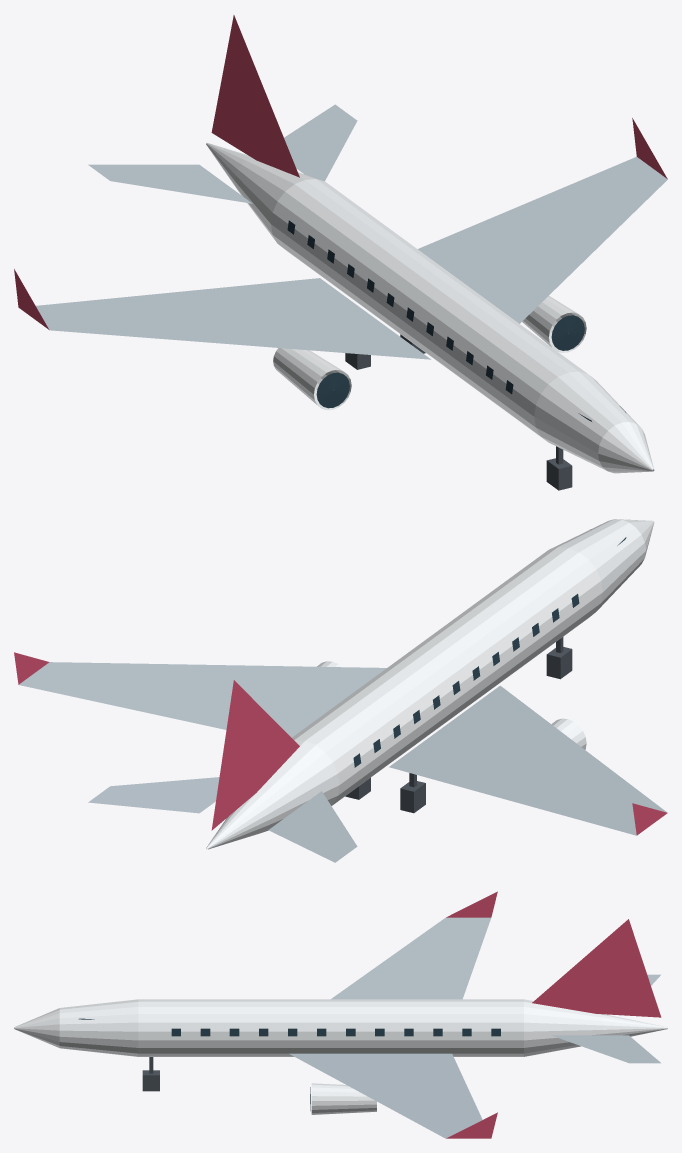
The model's file is a321-THY.gltf.
The picture shows the model from 3 angles, top to bottom: view 1: azimuth 30°, elevation 25°; view 2: azimuth 150°, elevation 25°; view 3: azimuth 270°, elevation 25°; orthographic projection. The views are drawn at different scales.
Visible parts, largest first — view 1: object 1, Gear; view 2: object 1, Gear; view 3: object 1, Gear.
Part boxes in pixels (x1=…): object 1: x1=14, y1=15, x2=667, y2=473; Gear: x1=345, y1=334, x2=572, y2=490; object 1: x1=14, y1=519, x2=667, y2=862; Gear: x1=345, y1=637, x2=572, y2=813; object 1: x1=14, y1=891, x2=667, y2=1138; Gear: x1=142, y1=1057, x2=159, y2=1091.
Bounding box in the file's own units: 36 × 12.9 × 45.
